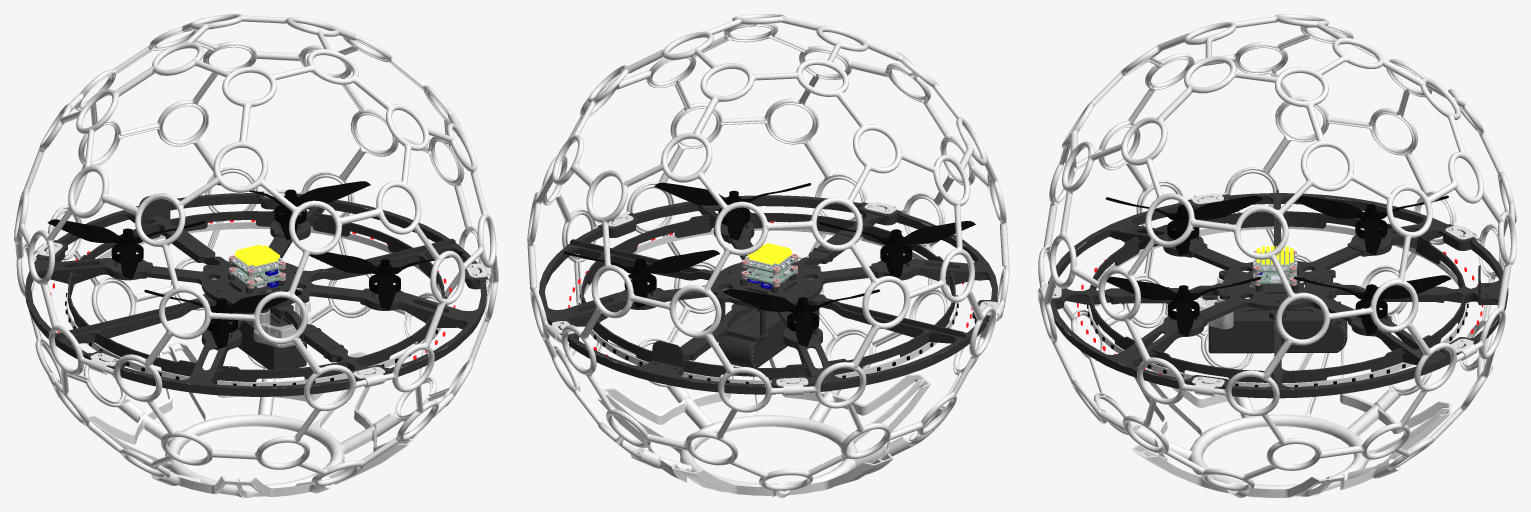
Rendered from drone.glb.
The picture shows the model from 3 angles, left to right: view 1: azimuth 30°, elevation 25°; view 2: azimuth 150°, elevation 25°; view 3: azimuth 270°, elevation 25°; orthographic projection.
Visible parts, largest first — view 1: Brep With Voids.7-DC_Shell 3, CNTR PLATE_OTR-DC_Shell, 蹂몃Ц.39.4-DC_Shell, 蹂몃Ц.39.1-DC_Shell, 蹂몃Ц.39.3-DC_Shell, 蹂몃Ц.39.6-DC_Shell, 蹂몃Ц.39.5-DC_Shell, 蹂몃Ц.39.2-DC_Shell, CNTR PLATE_INR-DC_Shell, LED round, battery, prop1 (+6 smaller); view 2: Brep With Voids.7-DC_Shell 3, CNTR PLATE_OTR-DC_Shell, 蹂몃Ц.39.5-DC_Shell, 蹂몃Ц.39.6-DC_Shell, 蹂몃Ц.39.1-DC_Shell, 蹂몃Ц.39.3-DC_Shell, 蹂몃Ц.39.4-DC_Shell, CNTR PLATE_INR-DC_Shell, 蹂몃Ц.39.2-DC_Shell, LED round, battery, prop1 (+5 smaller); view 3: Brep With Voids.7-DC_Shell 3, CNTR PLATE_OTR-DC_Shell, 蹂몃Ц.39.2-DC_Shell, 蹂몃Ц.39.1-DC_Shell, 蹂몃Ц.39.3-DC_Shell, CNTR PLATE_INR-DC_Shell, 蹂몃Ц.39.6-DC_Shell, 蹂몃Ц.39.5-DC_Shell, 蹂몃Ц.39.4-DC_Shell, battery, LED round, prop1 (+6 smaller).
Part boxes in pixels (<box>): Brep With Voids.7-DC_Shell 3: <box>15,155,498,497</box>; CNTR PLATE_OTR-DC_Shell: <box>25,191,488,396</box>; 蹂몃Ц.39.4-DC_Shell: <box>119,122,360,357</box>; 蹂몃Ц.39.1-DC_Shell: <box>358,91,497,325</box>; 蹂몃Ц.39.3-DC_Shell: <box>133,14,374,123</box>; 蹂몃Ц.39.6-DC_Shell: <box>14,79,136,305</box>; 蹂몃Ц.39.5-DC_Shell: <box>70,22,278,187</box>; 蹂몃Ц.39.2-DC_Shell: <box>278,29,466,206</box>; CNTR PLATE_INR-DC_Shell: <box>147,236,365,328</box>; LED round: <box>66,222,445,388</box>; battery: <box>211,305,306,369</box>; prop1: <box>48,219,205,279</box>; Brep With Voids.7-DC_Shell 3: <box>529,157,1009,497</box>; CNTR PLATE_OTR-DC_Shell: <box>539,195,998,394</box>; 蹂몃Ц.39.5-DC_Shell: <box>580,115,789,354</box>; 蹂몃Ц.39.6-DC_Shell: <box>789,108,977,347</box>; 蹂몃Ц.39.1-DC_Shell: <box>632,23,868,167</box>; 蹂몃Ц.39.3-DC_Shell: <box>644,14,884,118</box>; 蹂몃Ц.39.4-DC_Shell: <box>867,47,1007,244</box>; CNTR PLATE_INR-DC_Shell: <box>661,237,875,325</box>; 蹂몃Ц.39.2-DC_Shell: <box>527,58,646,266</box>; LED round: <box>580,227,956,386</box>; battery: <box>718,309,819,367</box>; prop1: <box>723,289,880,346</box>; Brep With Voids.7-DC_Shell 3: <box>1038,153,1507,497</box>; CNTR PLATE_OTR-DC_Shell: <box>1048,190,1508,398</box>; 蹂몃Ц.39.2-DC_Shell: <box>1213,121,1443,360</box>; 蹂몃Ц.39.1-DC_Shell: <box>1047,102,1214,340</box>; 蹂몃Ц.39.3-DC_Shell: <box>1172,14,1403,123</box>; CNTR PLATE_INR-DC_Shell: <box>1193,246,1360,322</box>; 蹂몃Ц.39.6-DC_Shell: <box>1215,23,1438,174</box>; 蹂몃Ц.39.5-DC_Shell: <box>1400,69,1516,287</box>; 蹂몃Ц.39.4-DC_Shell: <box>1047,39,1214,226</box>; battery: <box>1208,310,1347,353</box>; LED round: <box>1088,224,1466,389</box>; prop1: <box>1296,195,1448,254</box>.
Bounding box in the file's own units: 0.4095 × 0.389 × 0.4046.
